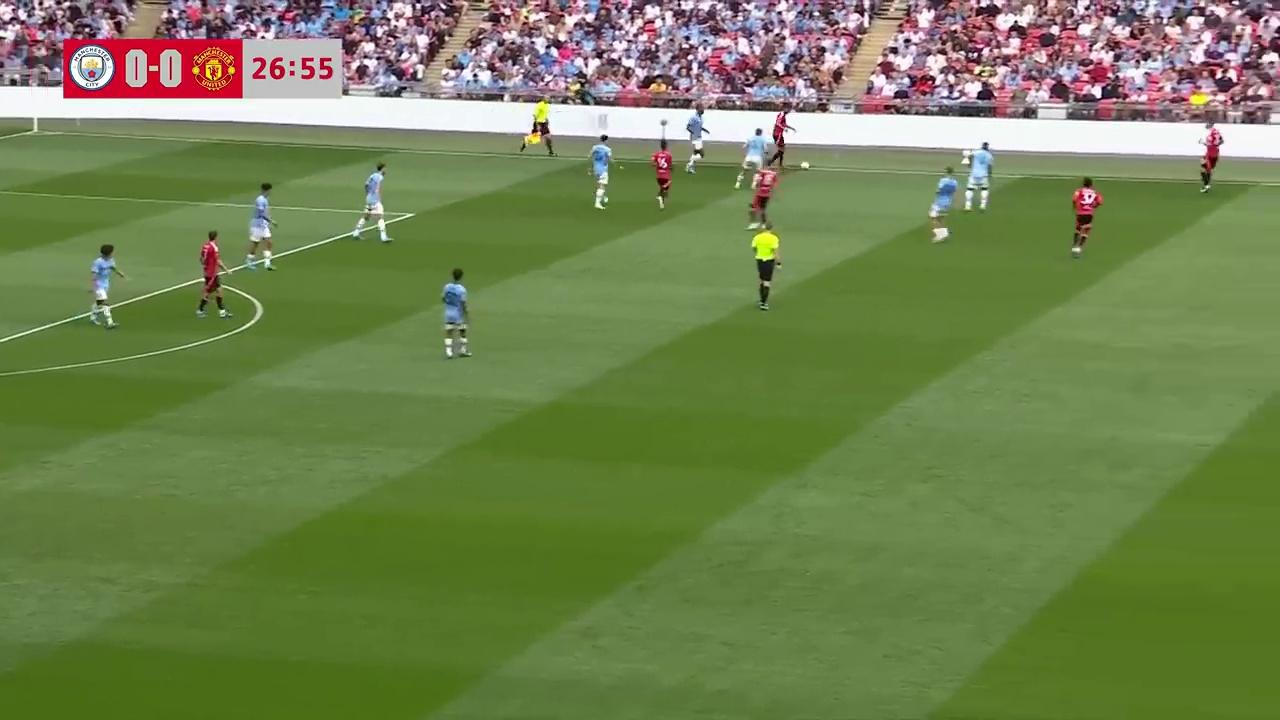ball: (799, 158, 810, 176)
player: (195, 230, 234, 318), (352, 162, 393, 242), (89, 244, 128, 327), (246, 182, 278, 272), (441, 268, 470, 358), (929, 167, 961, 242), (1071, 179, 1102, 256), (747, 158, 779, 228), (963, 141, 994, 211), (588, 137, 614, 209), (769, 99, 795, 171), (1198, 129, 1222, 193), (650, 141, 672, 210), (734, 134, 761, 187), (685, 132, 705, 174)
referee: (749, 218, 781, 310), (520, 99, 557, 155)
